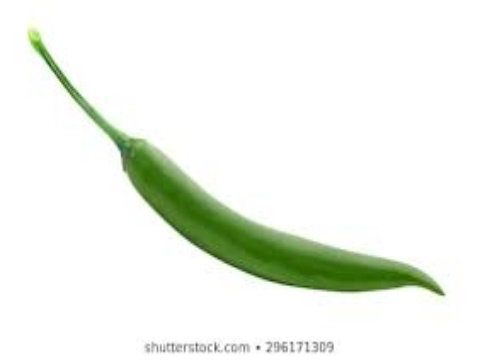Chilli: (18, 21, 468, 318)
